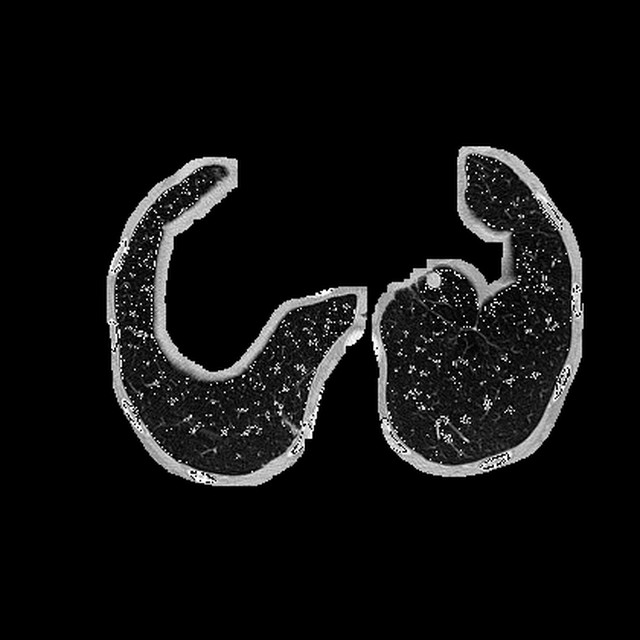PN: (425, 271, 440, 286)
